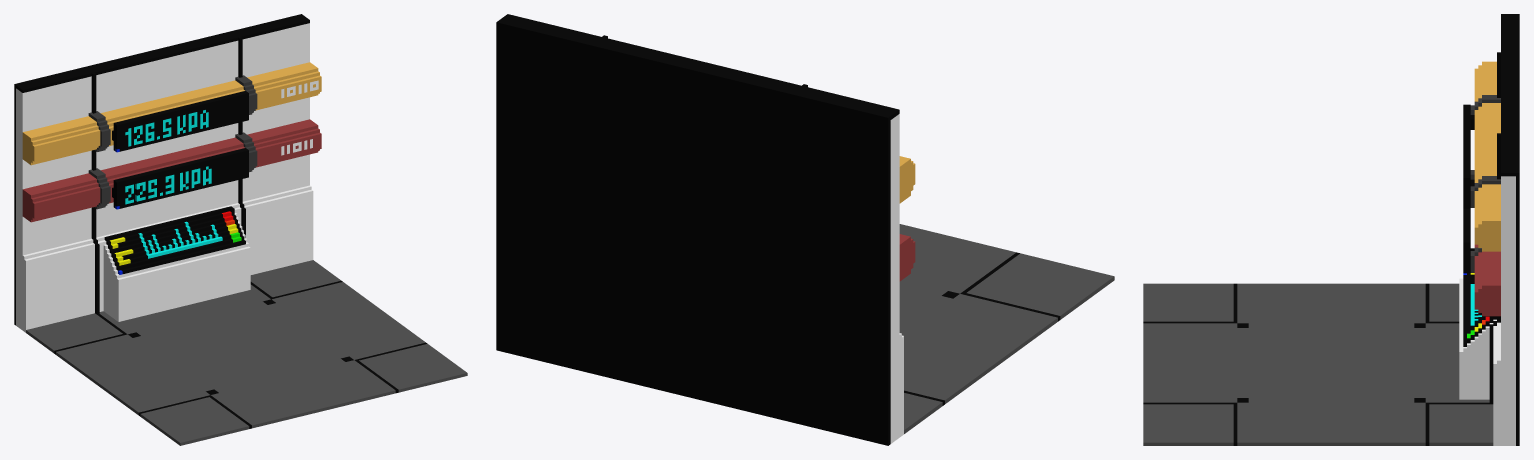
File: Wall Pipes 2 with Computer.obj
3 views of the same model, side by side, from view 1: azimuth 30°, elevation 25°; view 2: azimuth 150°, elevation 25°; view 3: azimuth 270°, elevation 25° (orthographic). The views are drawn at different scales.
Bounding box in the file's own units: 10 × 8 × 10.
